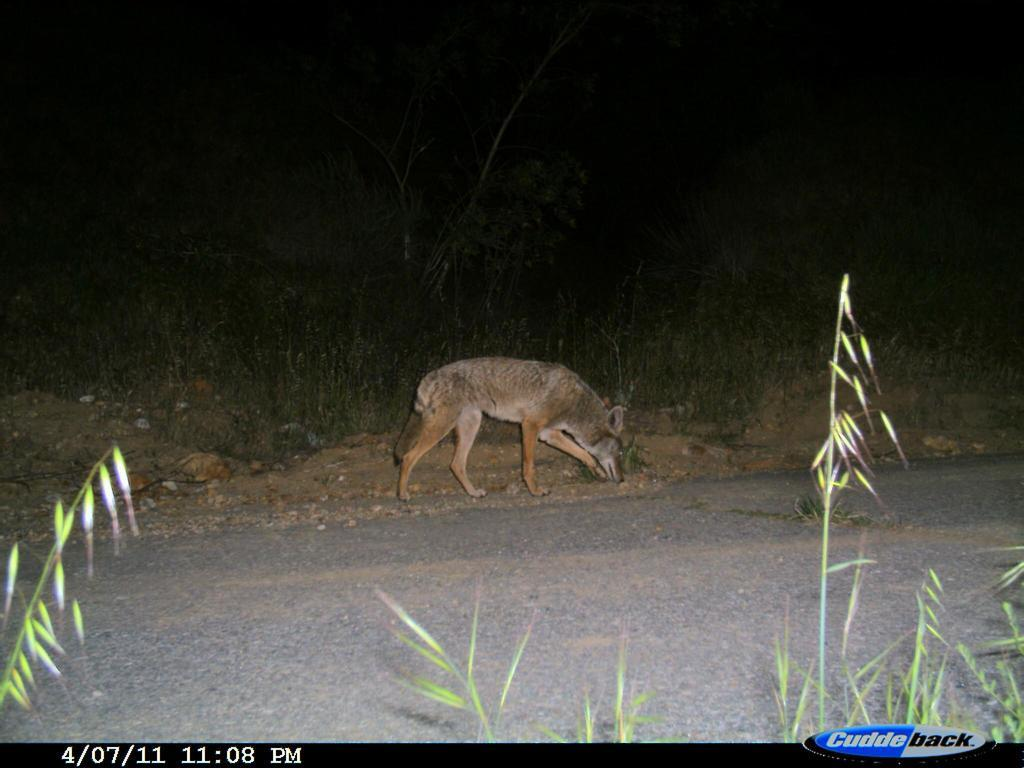coyote: (388, 354, 635, 506)
